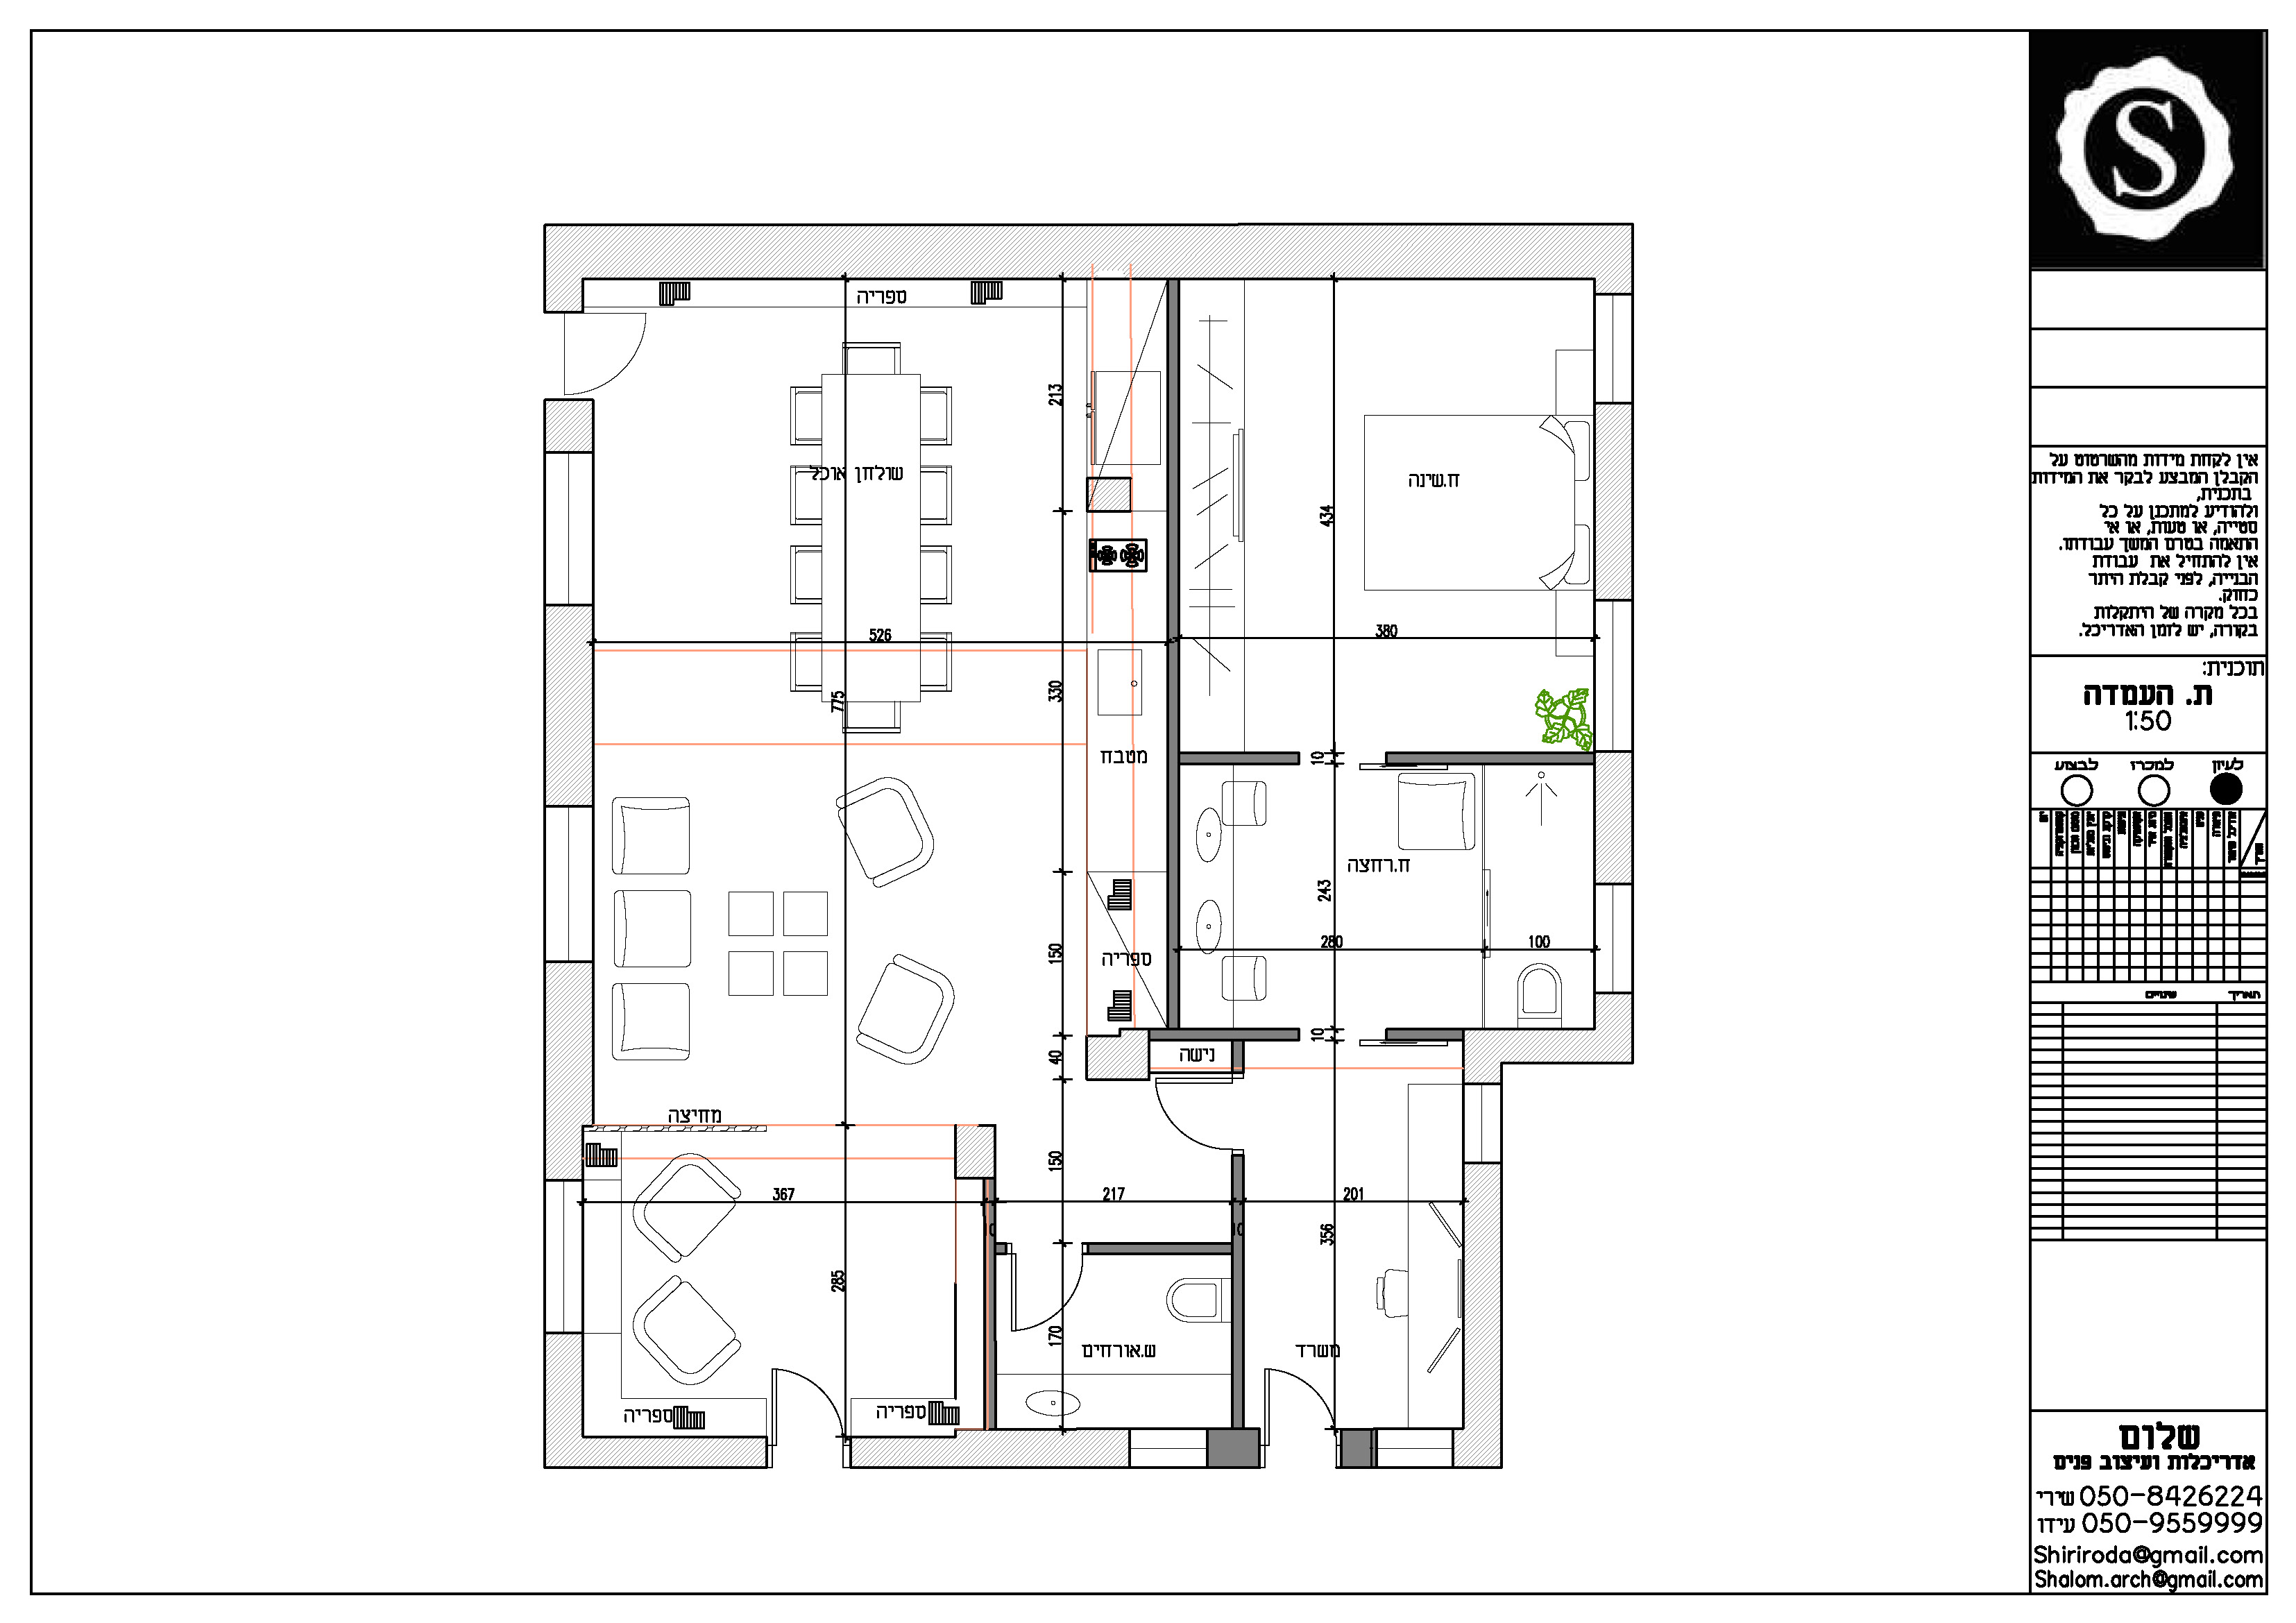door: (1005, 1261, 1107, 1340), (596, 295, 666, 393), (1149, 1073, 1216, 1165), (775, 1342, 843, 1419), (1258, 1358, 1314, 1410)
wall: (546, 218, 1628, 283), (1458, 1165, 1507, 1472)
window: (545, 448, 596, 599), (545, 804, 588, 956), (545, 1182, 581, 1340), (1131, 1425, 1209, 1474), (1374, 1428, 1453, 1468)
